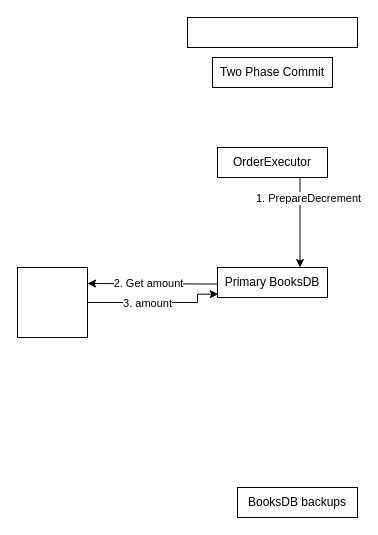
This 378x535 diagram has some shape labels left out. Here are the shapes that lost their labels. From the top down, the centre of each, then its label:
At [272,32]: "Primary-Backup Replication".
At [52,302]: "Store".
